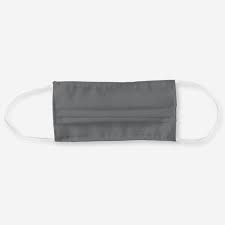cloth_mask: (3, 79, 224, 150)
